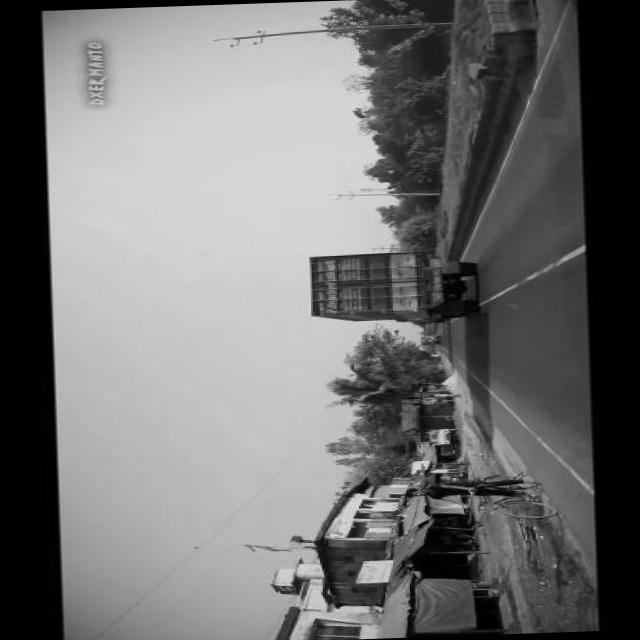bus: (416, 334, 442, 346)
truck: (304, 248, 480, 326)
